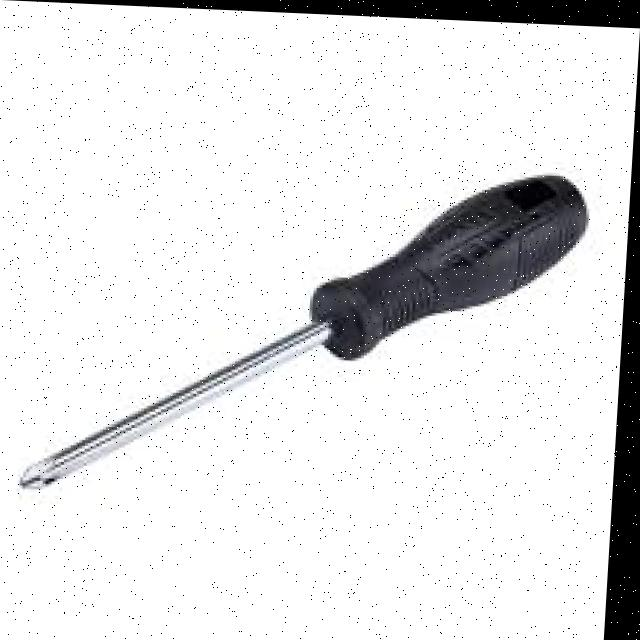Screwdriver: (26, 170, 585, 487)
